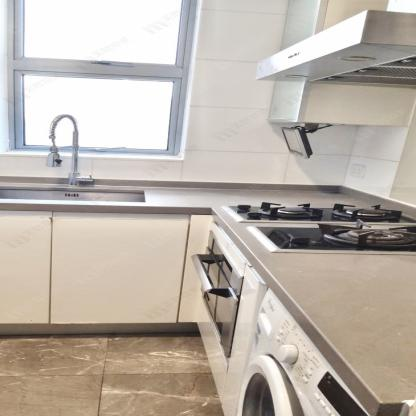Exhaust Hood: (255, 9, 415, 90)
Faucet: (43, 110, 95, 190)
Oven: (190, 231, 247, 358)
Sink: (0, 182, 170, 207)
Stove: (203, 197, 415, 269)
Washing Machine: (227, 288, 371, 416)
